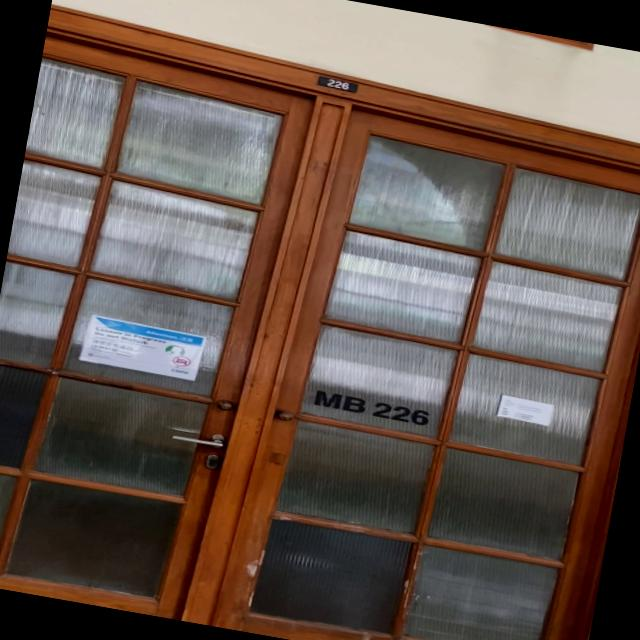room226: (314, 72, 362, 94)
room226Window: (307, 384, 436, 430)
